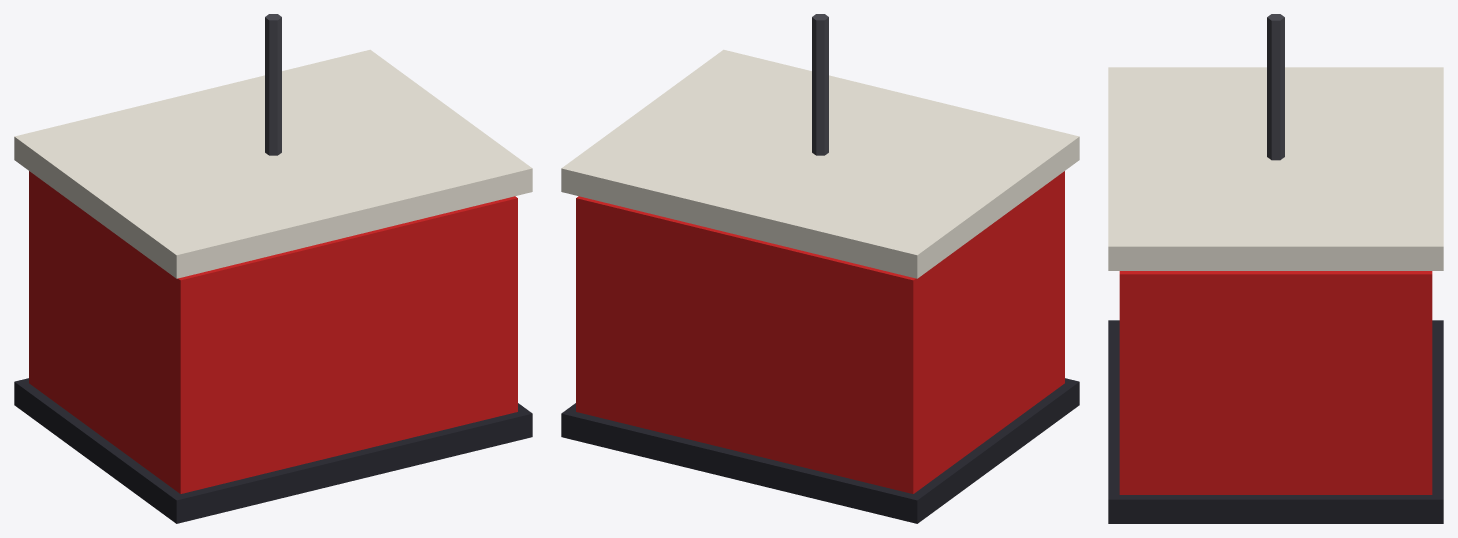
File: gondola_cabin.glb
The picture shows the model from 3 angles, left to right: view 1: azimuth 30°, elevation 25°; view 2: azimuth 150°, elevation 25°; view 3: azimuth 270°, elevation 25°; orthographic projection. The views are drawn at different scales.
Visible parts, largest first — view 1: gondola_cabin; view 2: gondola_cabin; view 3: gondola_cabin.
Boxes of the visible parts, left/top/right/bottom form: gondola_cabin: left=14, top=14, right=532, bottom=523; gondola_cabin: left=561, top=14, right=1079, bottom=523; gondola_cabin: left=1108, top=14, right=1443, bottom=523.
Size of the model in its own units: 1.9 by 2.06 by 1.5.
